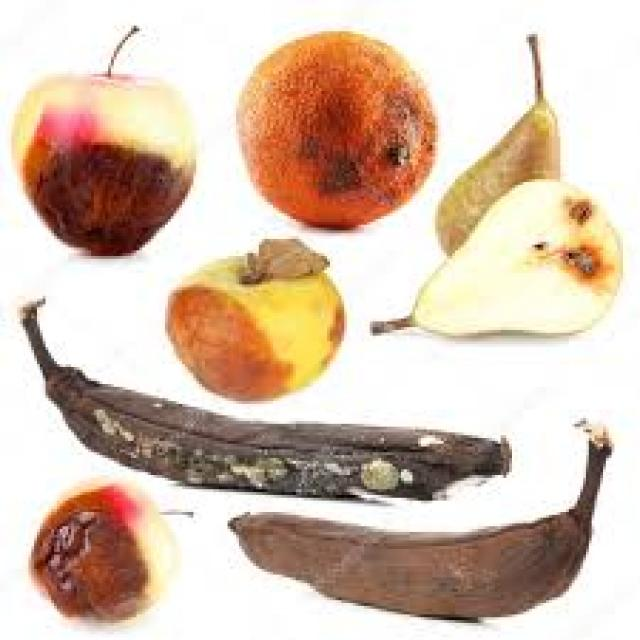organic waste: (17, 293, 509, 501), (224, 418, 608, 615), (12, 23, 194, 256), (367, 170, 620, 336), (233, 29, 432, 228), (432, 31, 560, 256), (162, 256, 341, 404), (29, 484, 162, 617), (250, 236, 324, 279)
